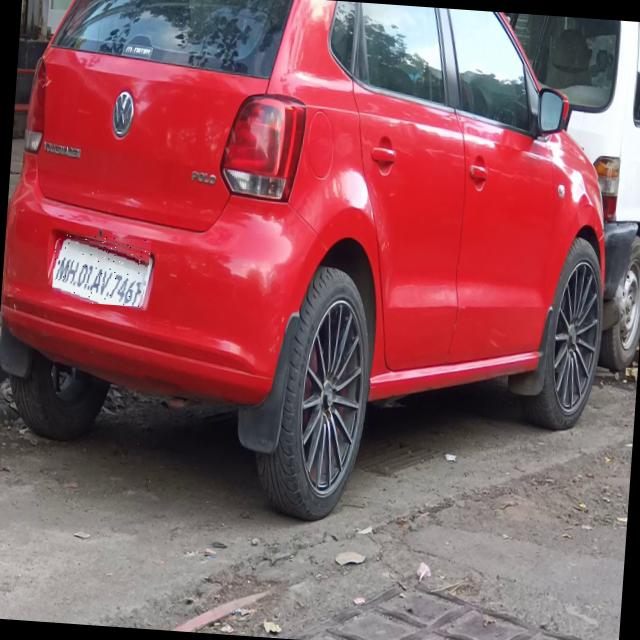Plate: (53, 234, 153, 308)
